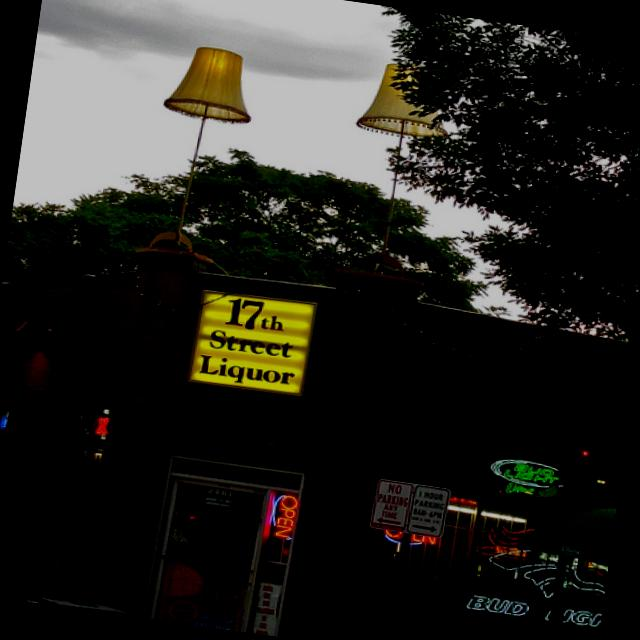Vehicle: (449, 615, 599, 640)
